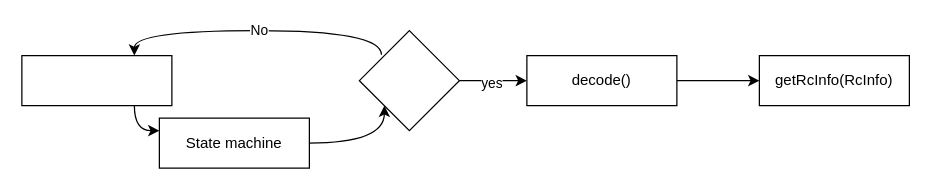
Some shapes in this 931 by 190 pixel diagram are drawn without their labels. Here are the shapes that lost their labels. From the top down, the centre of each, then its label:
point (96, 80): processByte(byte)
point (408, 80): Frame complete?
